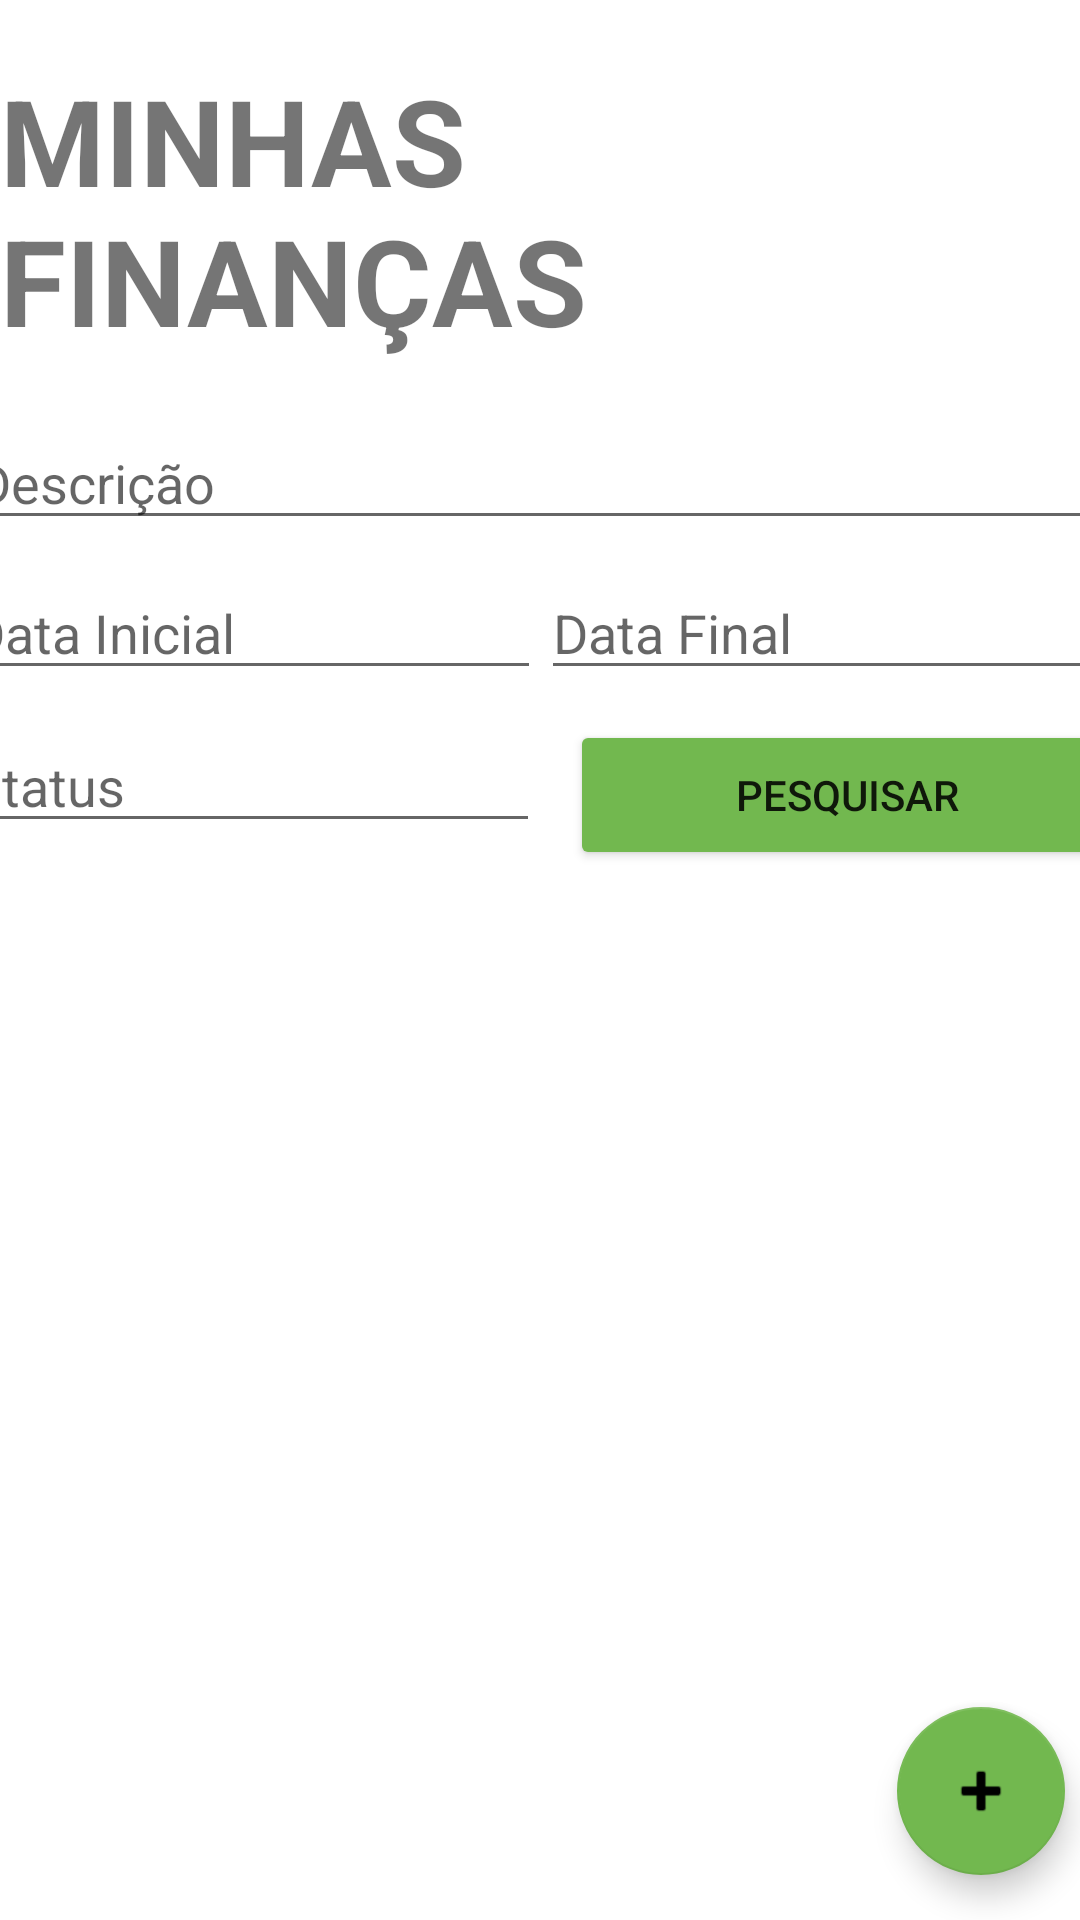

Screen size 1080×1920. Icon name, then its center in pixels as (x,y):
add: (981,1791)
